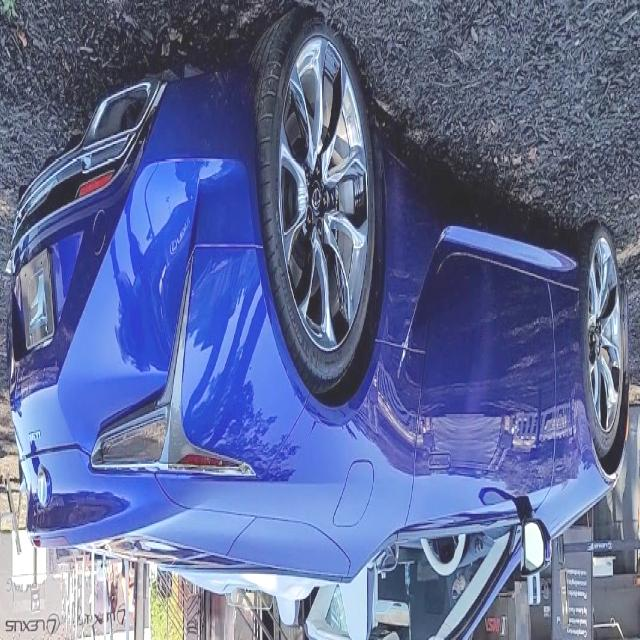blue: (5, 43, 627, 640)
